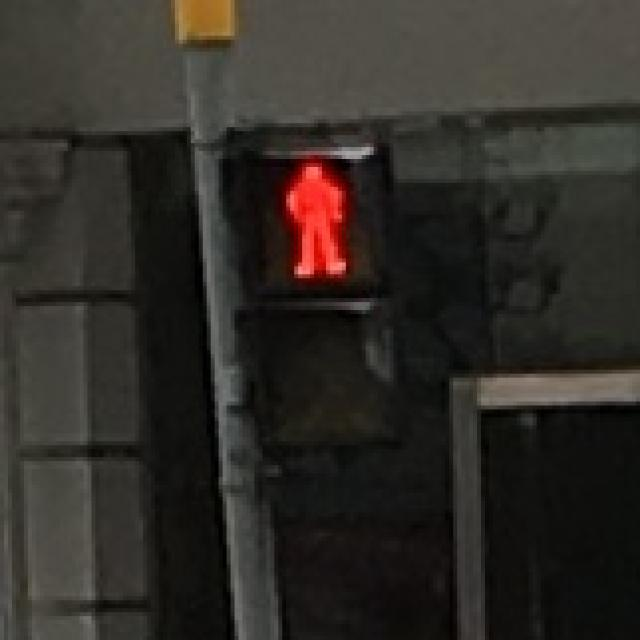red-crossing: (233, 146, 376, 280)
